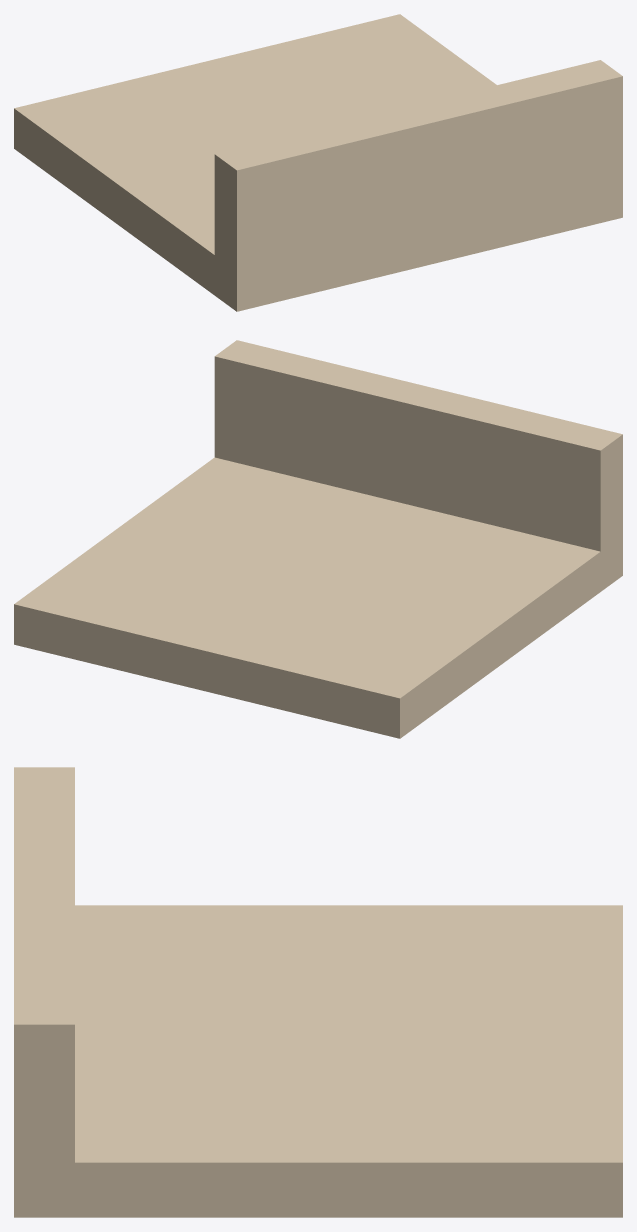
File: CreamRoof_1Edge_Small.glb
3 views of the same model, one above another, from view 1: azimuth 30°, elevation 25°; view 2: azimuth 150°, elevation 25°; view 3: azimuth 270°, elevation 25° (orthographic). The views are drawn at different scales.
Parts seen in each view (by area): view 1: roof_flat_1Edges_small_cream; view 2: roof_flat_1Edges_small_cream; view 3: roof_flat_1Edges_small_cream.
Part boxes in pixels (x1,y1,x2,y2): roof_flat_1Edges_small_cream: (14,14,622,311); roof_flat_1Edges_small_cream: (14,340,622,738); roof_flat_1Edges_small_cream: (14,767,622,1217).
Size of what is drawn, in the model's own units: 2 by 0.7 by 2.
Materials: 1 (1 with a texture image).
